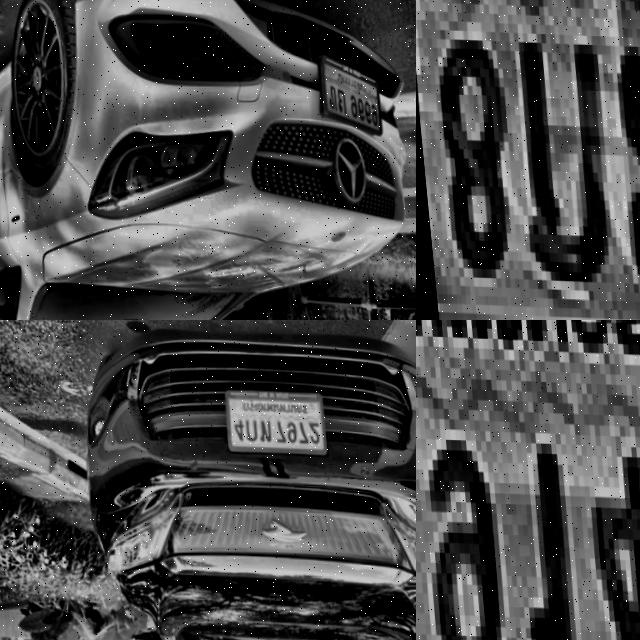license-plate: (416, 0, 640, 320), (416, 320, 640, 640), (216, 382, 325, 457), (310, 54, 383, 134)
